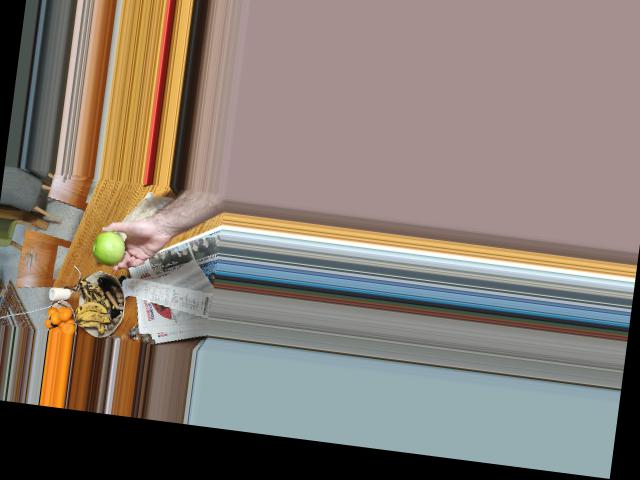apple: (86, 225, 131, 265)
